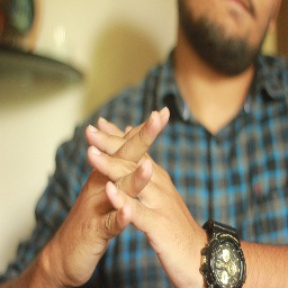W: (62, 87, 180, 270)
